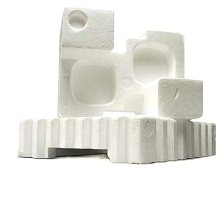foam_box: (51, 1, 208, 122), (12, 110, 220, 168)
